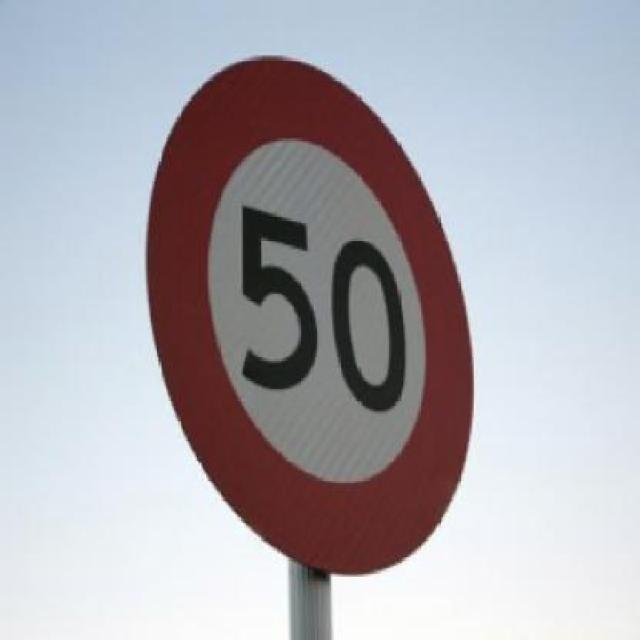Speed limit 50: (141, 52, 481, 579)
